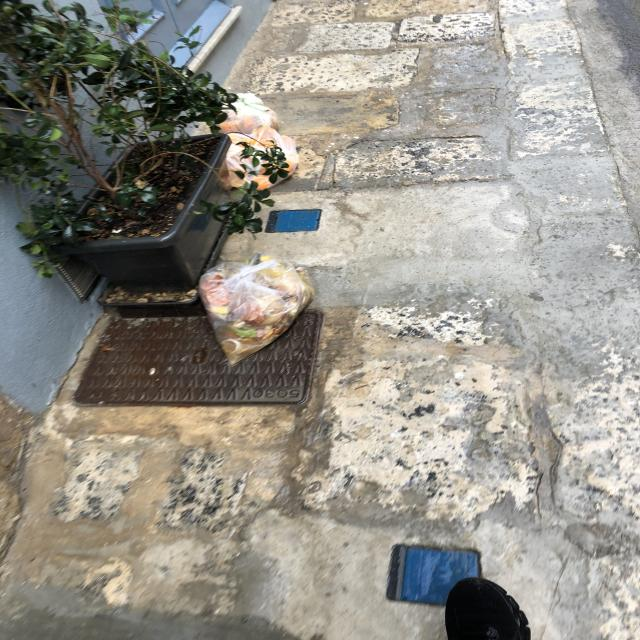Organic Waste -White Bag-: (199, 257, 320, 368), (226, 128, 301, 193), (205, 92, 277, 137)
